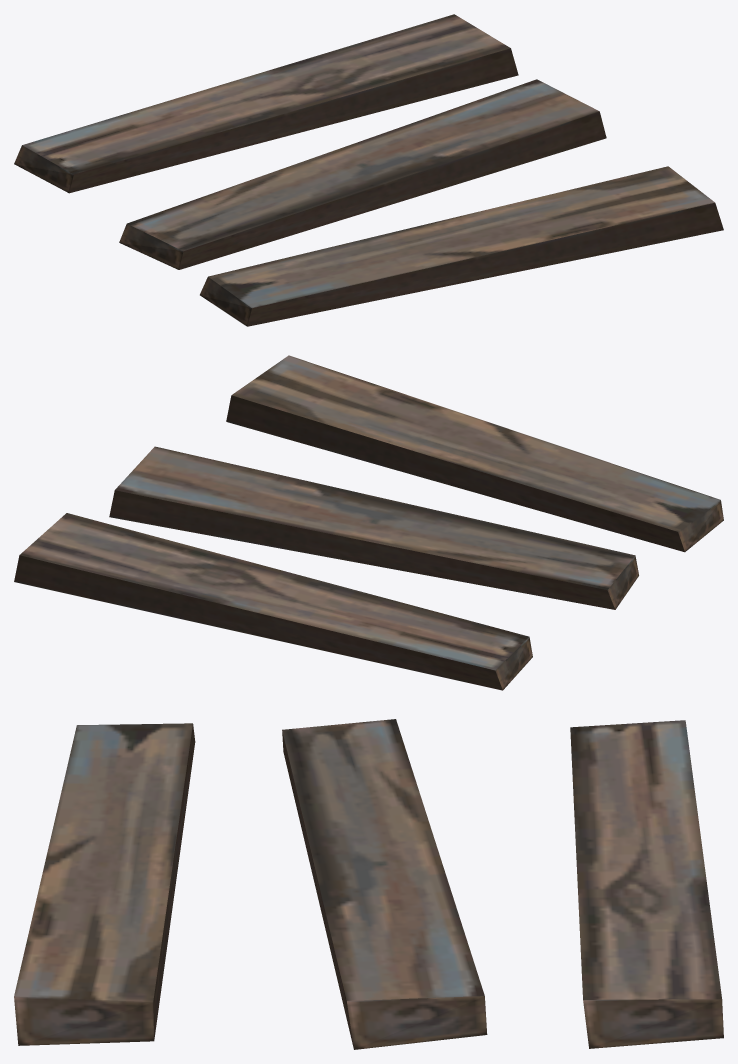
File: mine_boards_01.fbx
The picture shows the model from 3 angles, top to bottom: view 1: azimuth 30°, elevation 25°; view 2: azimuth 150°, elevation 25°; view 3: azimuth 270°, elevation 25°; orthographic projection. The views are drawn at different scales.
Parts seen in each view (by area): view 1: obj0.065; view 2: obj0.065; view 3: obj0.065.
Boxes of the visible parts, x1,y1,x2,y2 form: obj0.065: (14, 14, 723, 326); obj0.065: (14, 355, 723, 690); obj0.065: (14, 719, 723, 1049).
Size of the model in its own units: 2.45 by 0.1658 by 2.35.
